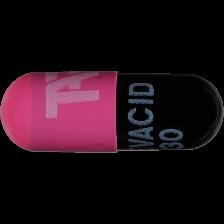16590-891: (0, 0, 224, 224)
